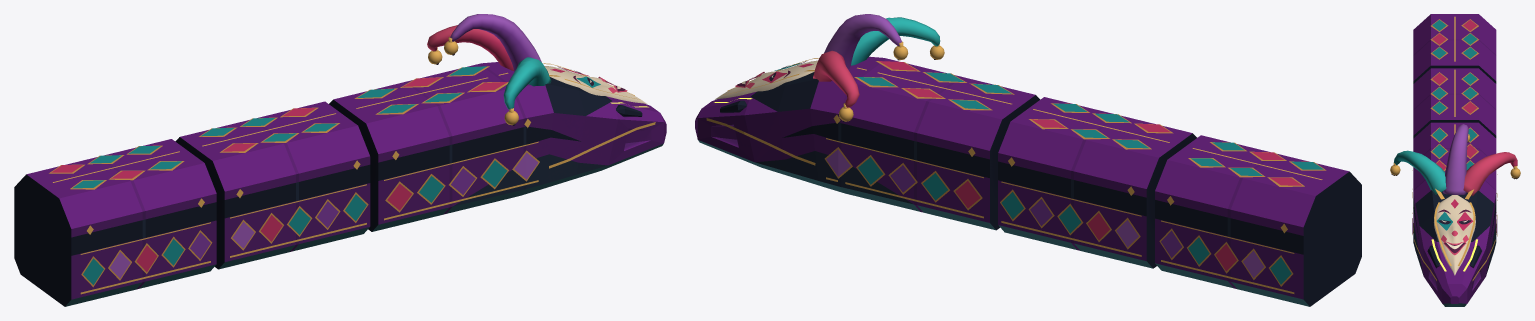
The model's file is train.glb.
3 renders of one model, left to right at view 1: azimuth 30°, elevation 25°; view 2: azimuth 150°, elevation 25°; view 3: azimuth 270°, elevation 25°, orthographic. The views are drawn at different scales.
Visible parts, largest first — view 1: Harlequin Express; view 2: Harlequin Express; view 3: Harlequin Express.
Boxes of the visible parts, x1,y1,x2,y2 form: Harlequin Express: (14,14,666,306); Harlequin Express: (695,14,1361,306); Harlequin Express: (1390,14,1520,306).
Bounding box in the file's own units: 4.97 × 1.26 × 1.25.
4 materials, 1 textured.
